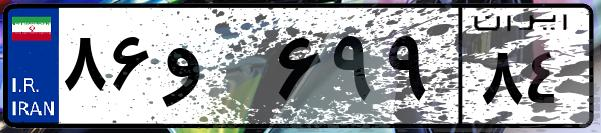4: (525, 38, 570, 115)
6: (270, 28, 330, 110), (110, 28, 158, 98)
8: (57, 26, 110, 100), (475, 38, 525, 113)
9: (385, 28, 445, 110), (330, 28, 385, 110)
و: (158, 20, 270, 120)
